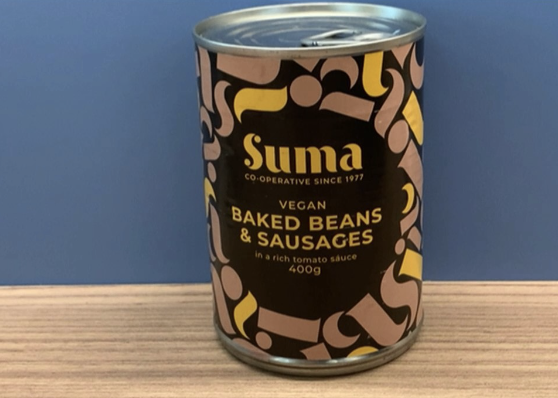Baked beans_400-499g: (209, 88, 405, 338)
